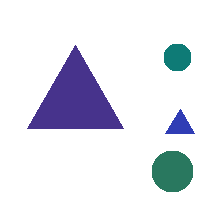circle: (152, 151, 192, 191), (164, 44, 190, 70)
triangle: (27, 45, 123, 128), (165, 109, 194, 133)
